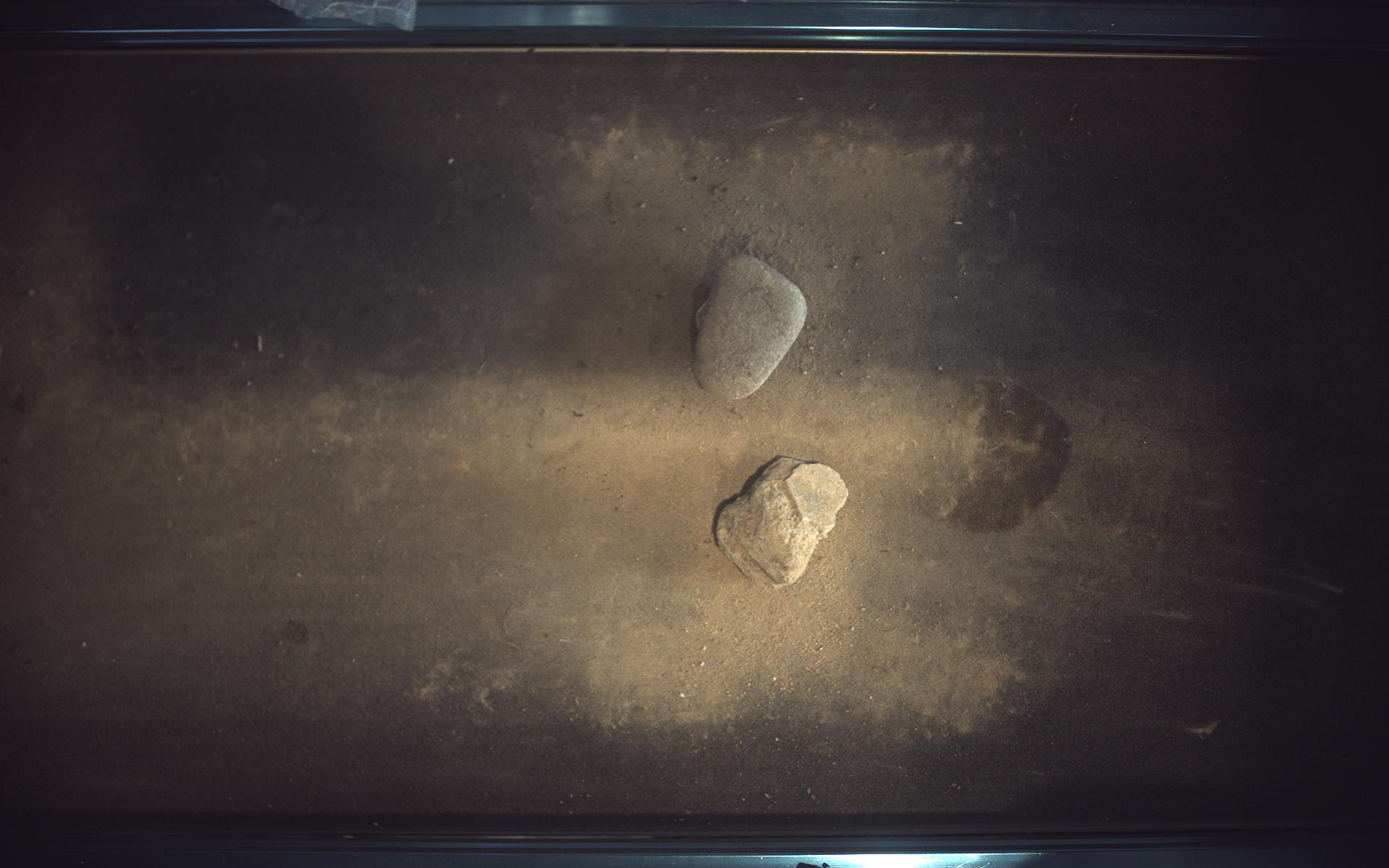stone: (716, 457, 850, 587), (696, 255, 809, 399)
